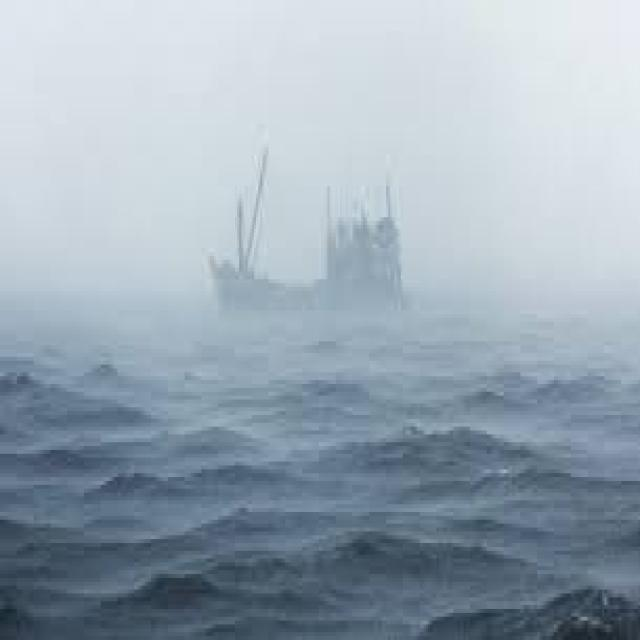fishing boat: (211, 160, 413, 313)
